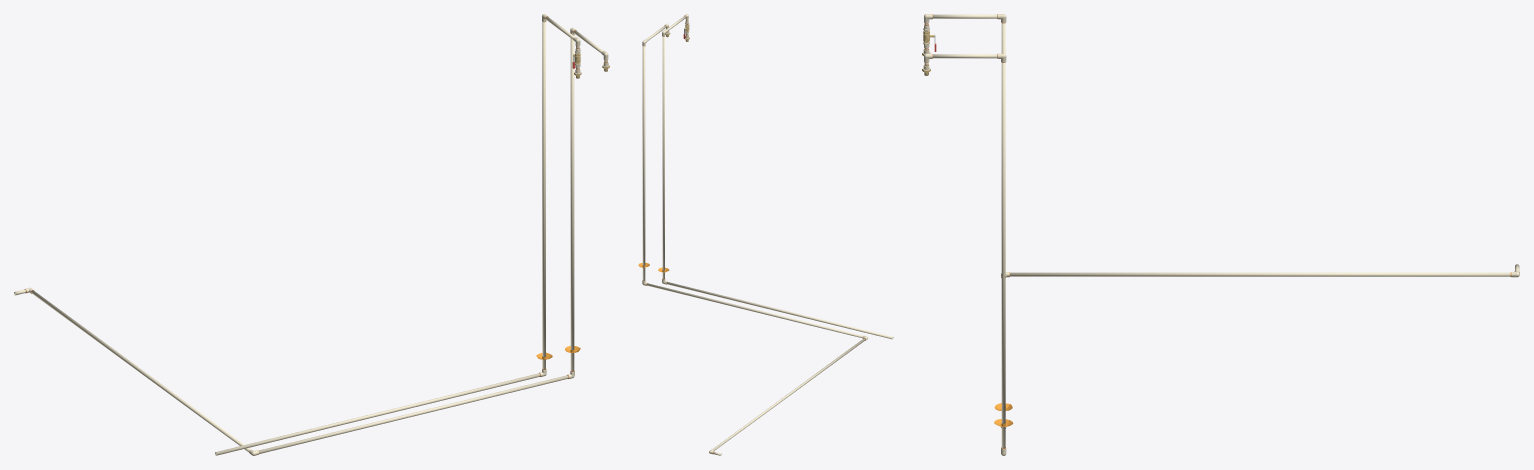
File: pipes_supply__water_heater-closet_gas_tank+closet_electric_tank_and_plumbing-cpvc.glb
The picture shows the model from 3 angles, left to right: view 1: azimuth 30°, elevation 25°; view 2: azimuth 150°, elevation 25°; view 3: azimuth 270°, elevation 25°; orthographic projection. The views are drawn at different scales.
Visible parts, largest first — view 1: pipe_supply_hot_wh_closet, pipe_supply_cold_wh_closet; view 2: pipe_supply_hot_wh_closet, pipe_supply_cold_wh_closet; view 3: pipe_supply_hot_wh_closet.
Boxes of the visible parts, x1,y1,x2,y2 form: pipe_supply_hot_wh_closet: (14,30,607,453); pipe_supply_cold_wh_closet: (215,16,579,455); pipe_supply_hot_wh_closet: (642,25,865,455); pipe_supply_cold_wh_closet: (662,16,893,339); pipe_supply_hot_wh_closet: (924,54,1519,448).
Size of the model in its own units: 2.58 by 2.51 by 3.19.
